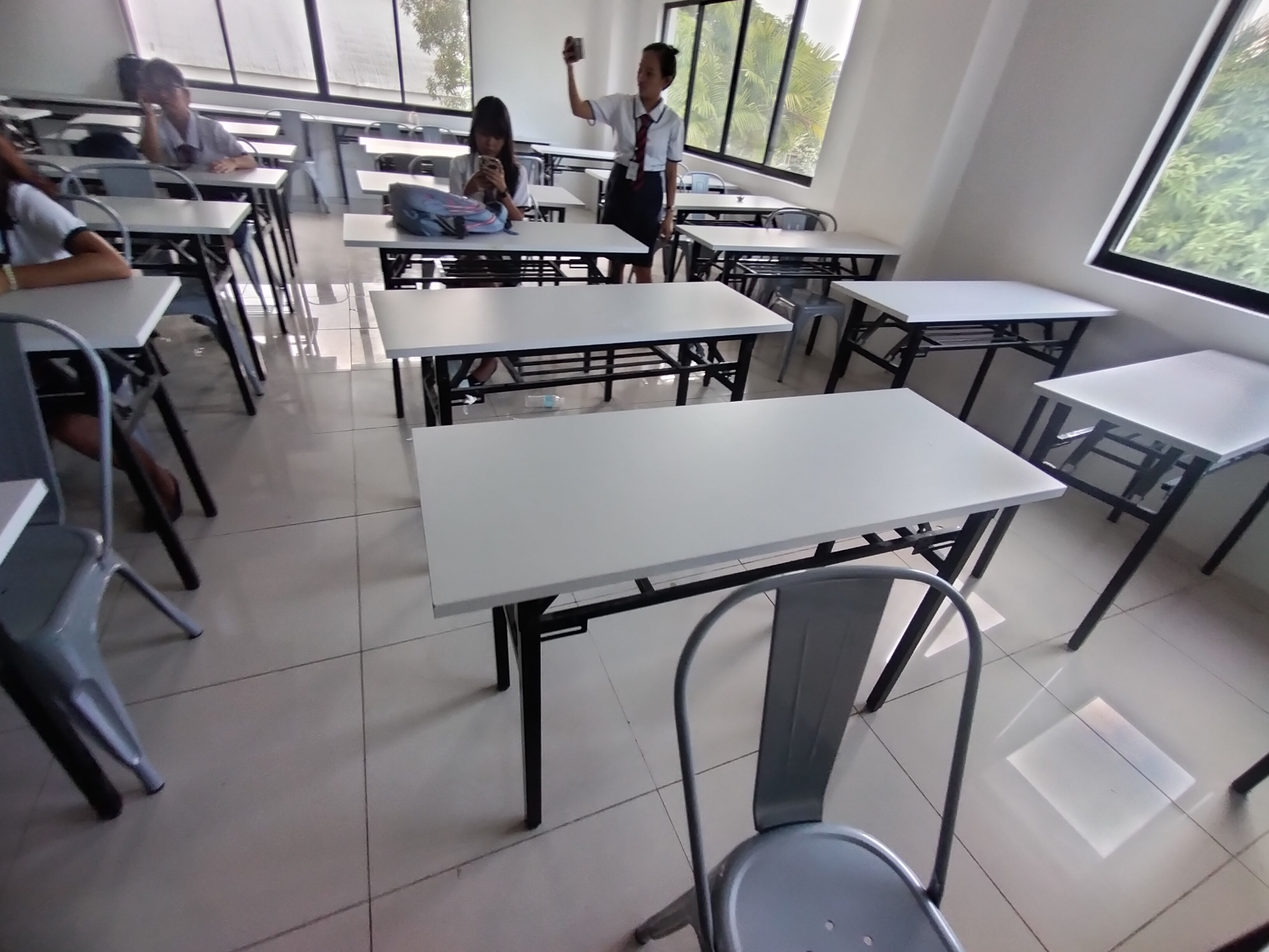with-student: (347, 90, 652, 280), (0, 55, 291, 200)
